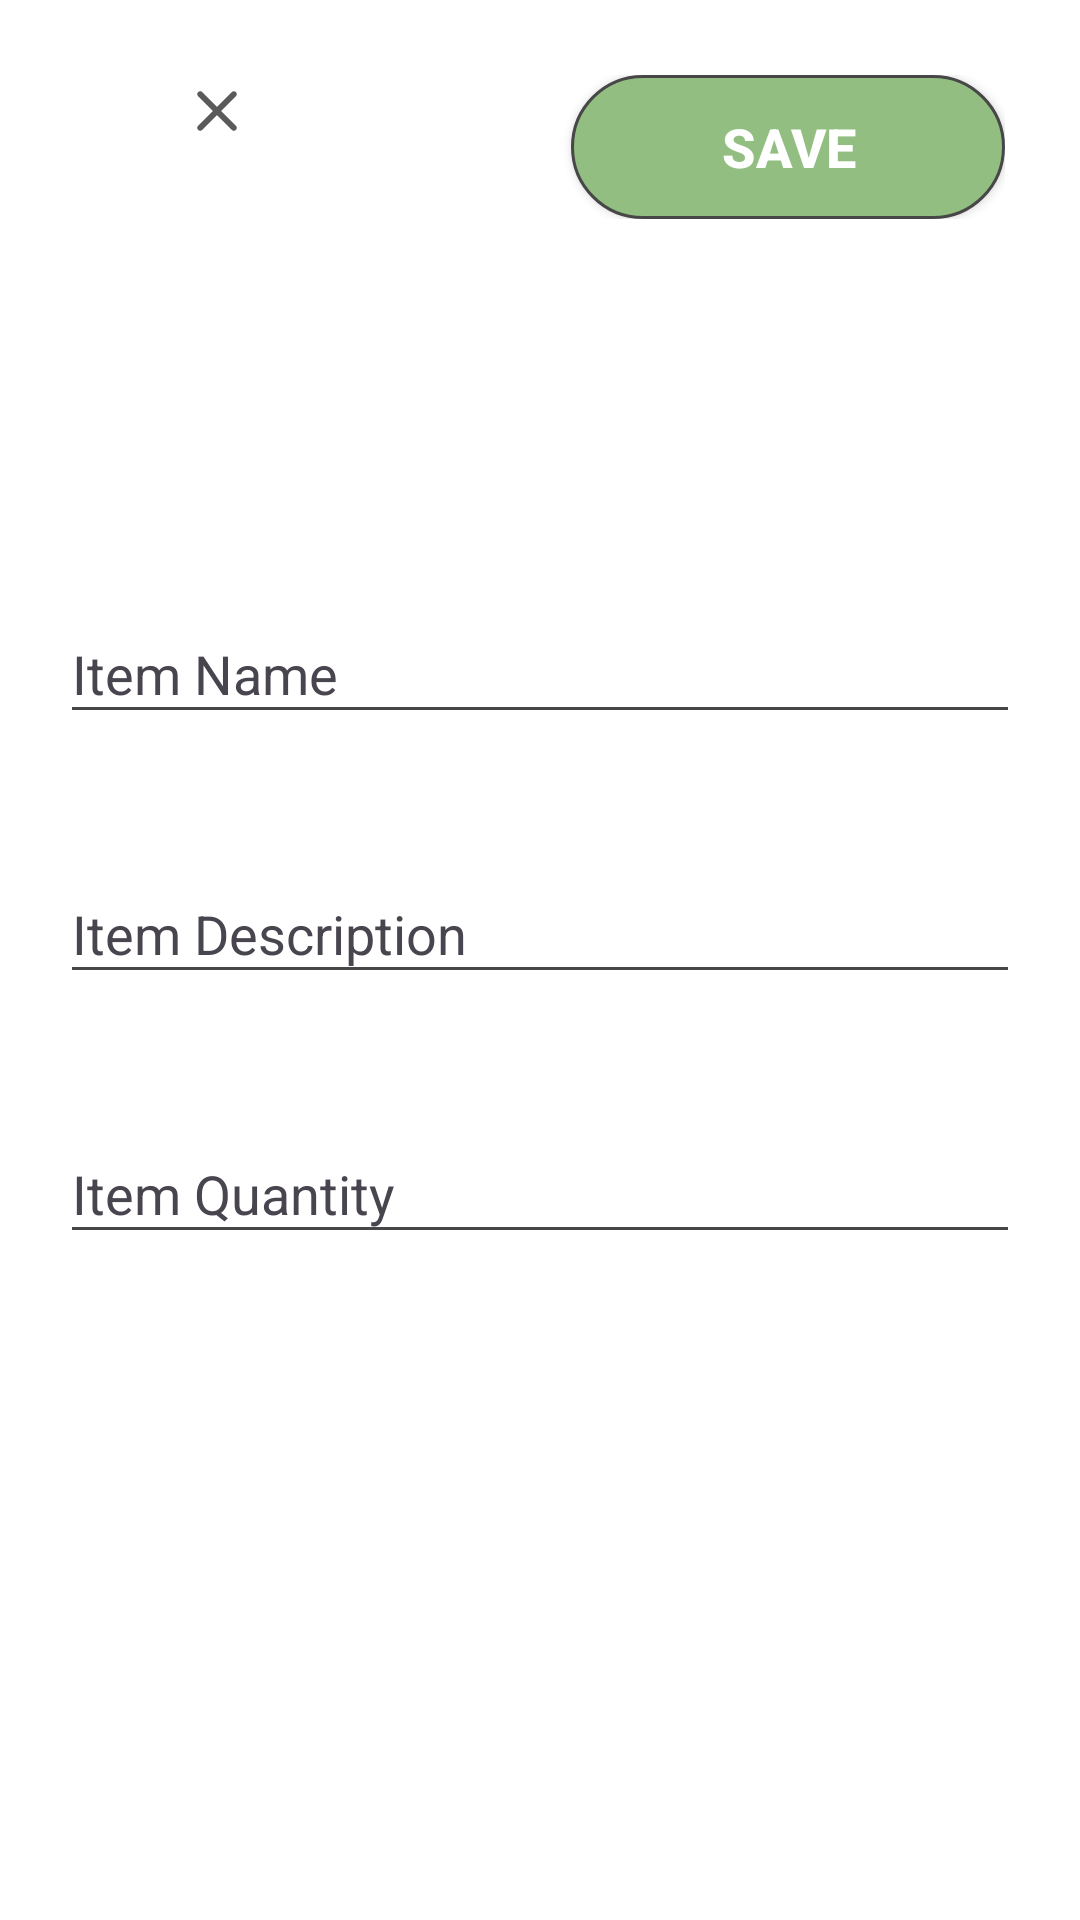

Screen size 1080x1920. Icon name, then its center in pixels as (x,y):
clear: (217,111)
